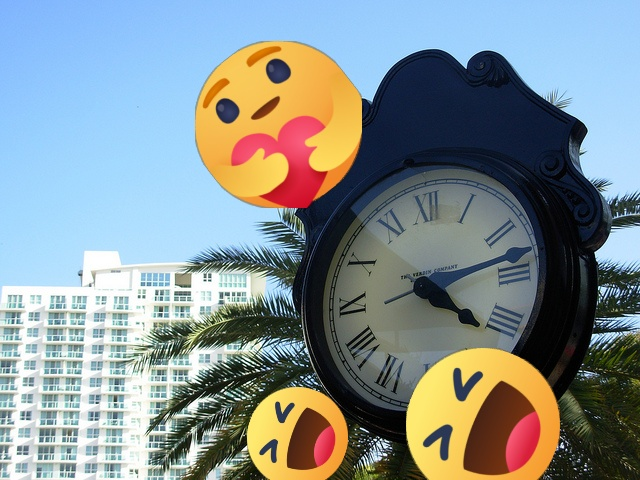care: (195, 41, 362, 208)
haha: (406, 348, 560, 480), (247, 387, 348, 480)
